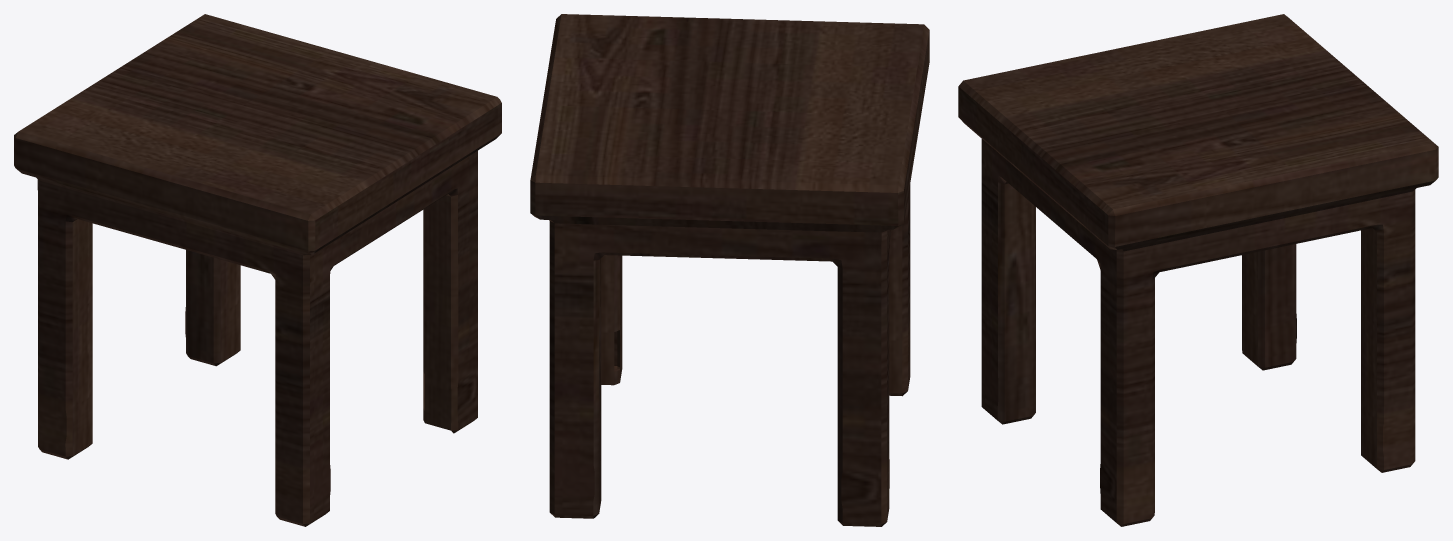
Rendered from Table.fbx.
3 views of the same model, side by side, from view 1: azimuth 30°, elevation 25°; view 2: azimuth 150°, elevation 25°; view 3: azimuth 270°, elevation 25° (orthographic). The views are drawn at different scales.
Visible parts, largest first — view 1: pasted__pCube149; view 2: pasted__pCube149; view 3: pasted__pCube149.
Boxes of the visible parts, box(x1,y1,x2,y2) form: pasted__pCube149: box(14, 14, 501, 526); pasted__pCube149: box(530, 14, 929, 526); pasted__pCube149: box(958, 14, 1438, 526).
Size of the model in its own units: 116 by 88.58 by 118.
